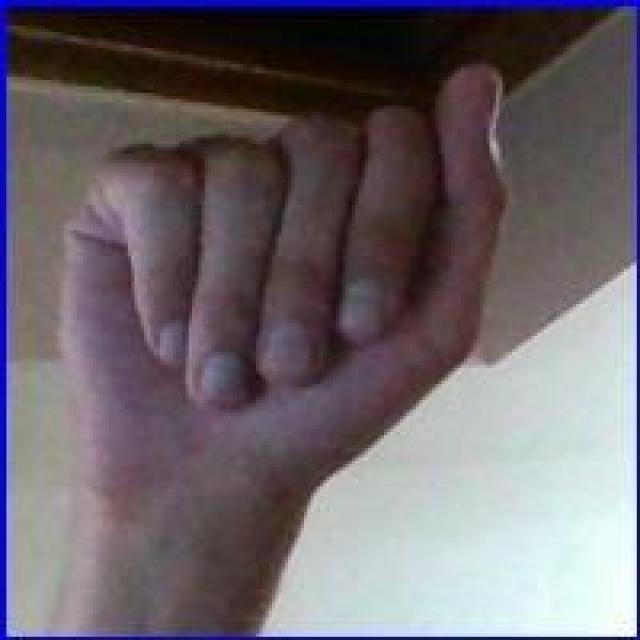A: (53, 54, 520, 496)
